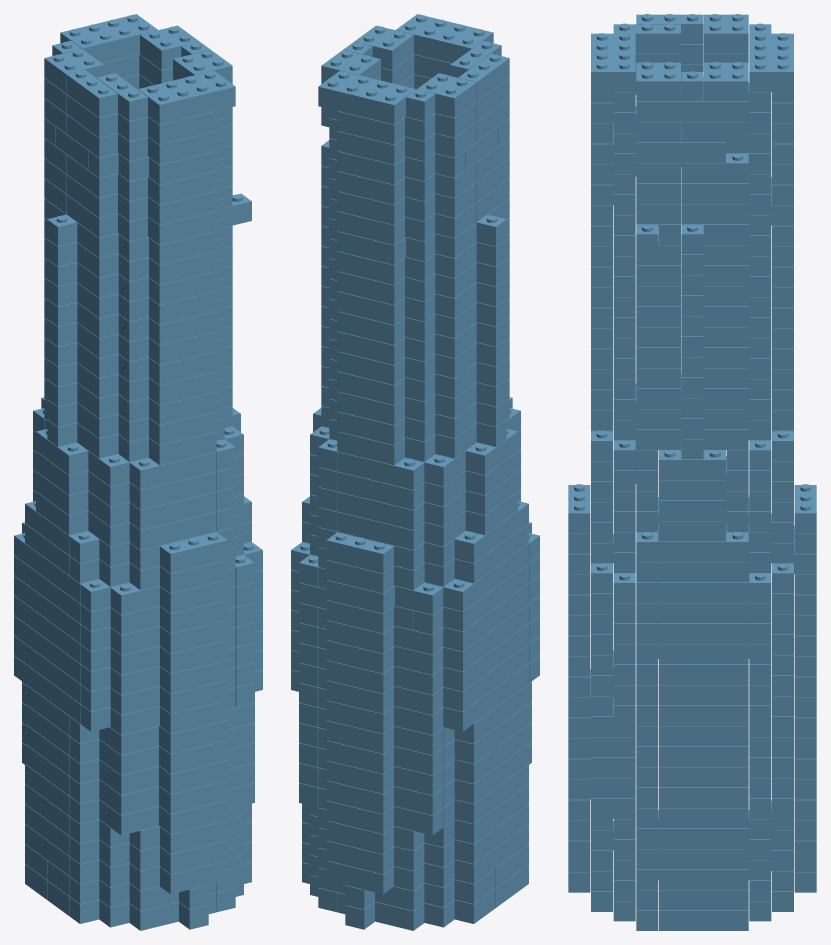
Rendered from 076_bottle_L1.glb.
3 views of the same model, side by side, from view 1: azimuth 30°, elevation 25°; view 2: azimuth 150°, elevation 25°; view 3: azimuth 270°, elevation 25° (orthographic). The views are drawn at different scales.
Size of the model in its own units: 8.98 by 41.13 by 10.98.
